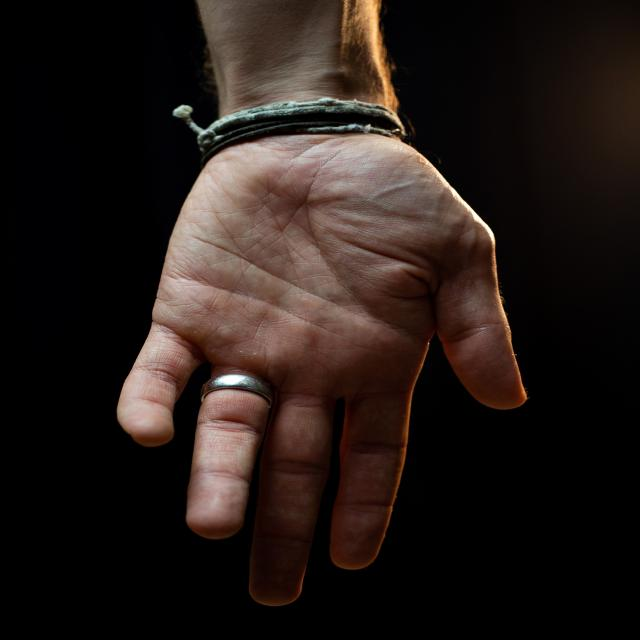bare_hand: (114, 126, 529, 606)
